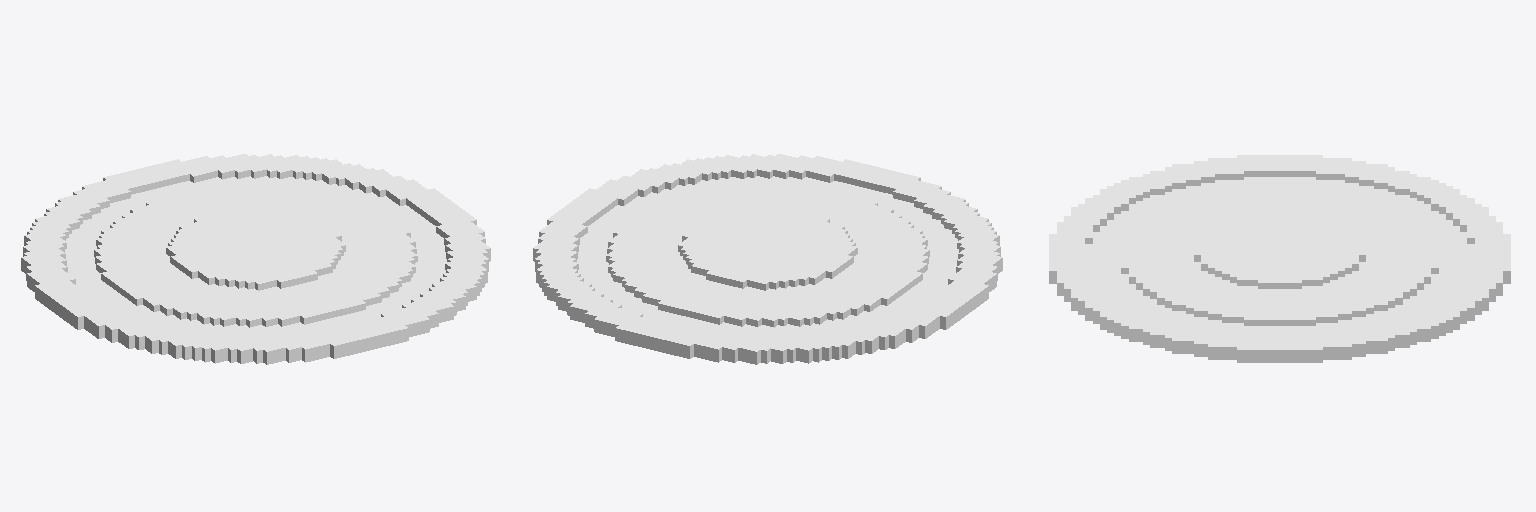
Rendered from equipment_spawner.vox.obj.
3 views of the same model, side by side, from view 1: azimuth 30°, elevation 25°; view 2: azimuth 150°, elevation 25°; view 3: azimuth 270°, elevation 25° (orthographic).
Parts seen in each view (by area): view 1: object 1; view 2: object 1; view 3: object 1.
Part boxes in pixels (bbox=[...]): object 1: bbox=[21, 154, 490, 364]; object 1: bbox=[533, 154, 1002, 364]; object 1: bbox=[1049, 155, 1510, 362].
Bounding box in the file's own units: 6.4 × 0.3 × 6.4.